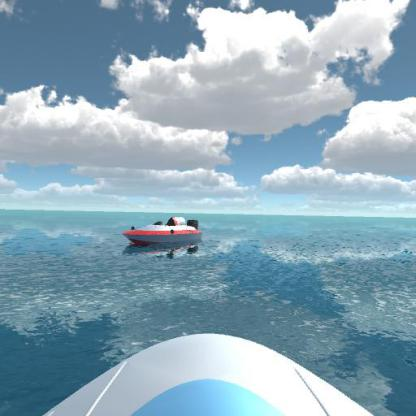usv3: (121, 211, 205, 258)
